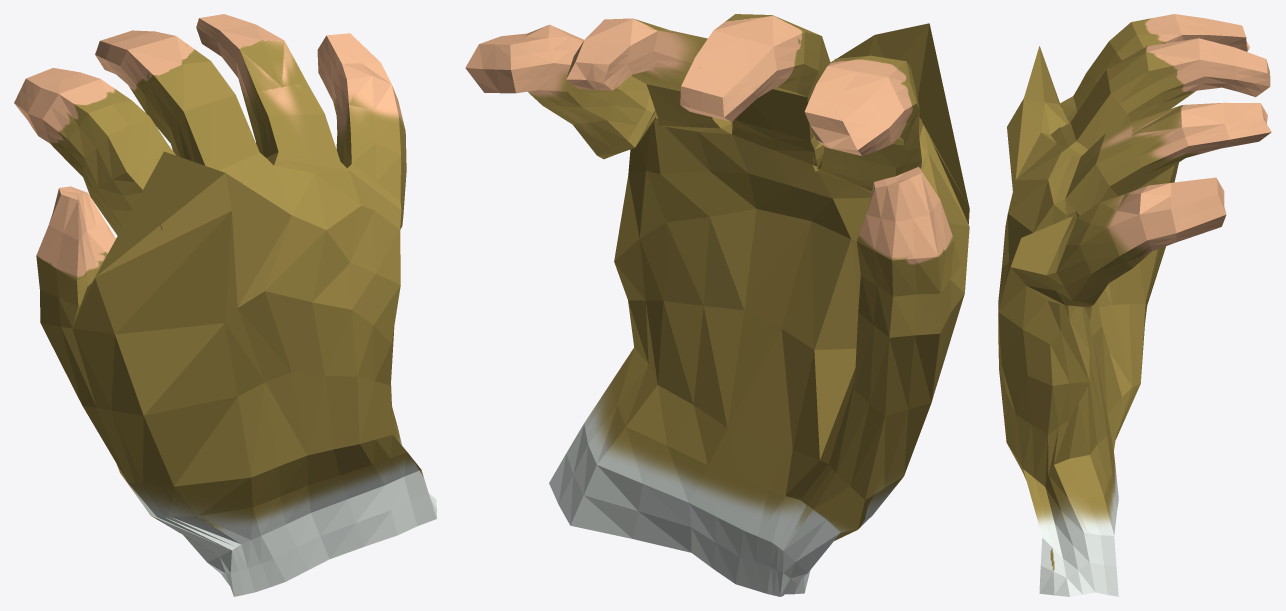
The model's file is grip0037.obj.
3 views of the same model, side by side, from view 1: azimuth 30°, elevation 25°; view 2: azimuth 150°, elevation 25°; view 3: azimuth 270°, elevation 25° (orthographic). The views are drawn at different scales.
Visible parts, largest first — view 1: Hand; view 2: Hand; view 3: Hand.
Boxes of the visible parts, box(x1,y1,x2,y2) form: Hand: box(14, 14, 436, 596); Hand: box(465, 14, 969, 596); Hand: box(998, 14, 1271, 596).
Size of the model in its own units: 2.89 by 3.9 by 1.96.
